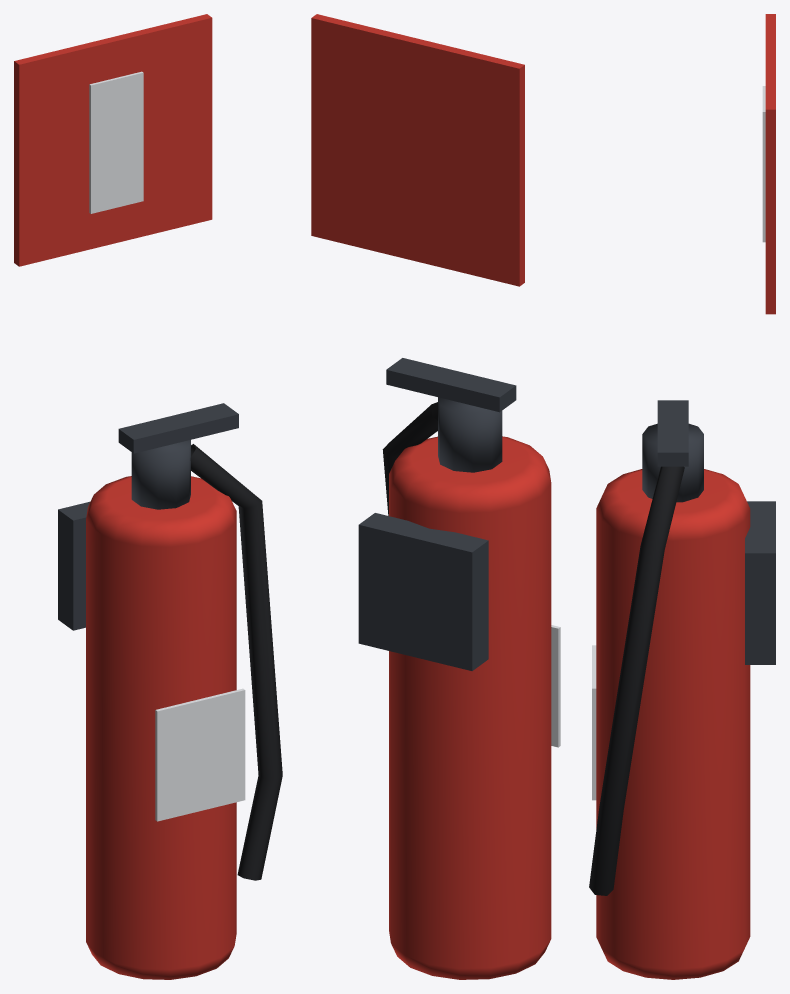
File: FireExtinguisher.fbx
The picture shows the model from 3 angles, left to right: view 1: azimuth 30°, elevation 25°; view 2: azimuth 150°, elevation 25°; view 3: azimuth 270°, elevation 25°; orthographic projection. The views are drawn at different scales.
Visible parts, largest first — view 1: FireExtinguisherBody; view 2: FireExtinguisherBody; view 3: FireExtinguisherBody.
Boxes of the visible parts, x1,y1,x2,y2 form: FireExtinguisherBody: (14, 14, 282, 979); FireExtinguisherBody: (311, 14, 560, 979); FireExtinguisherBody: (589, 14, 775, 979).
Size of the model in its own units: 0.22 by 0.96 by 0.1819.
